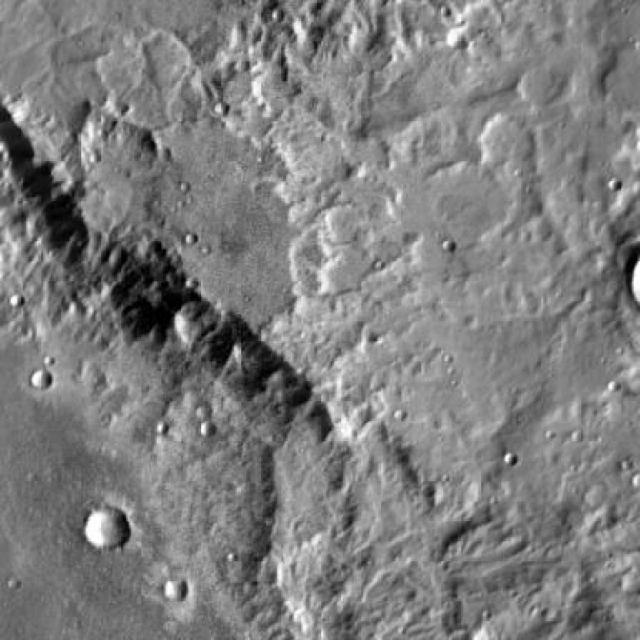crater: (163, 292, 209, 336), (86, 508, 131, 548), (167, 577, 193, 600), (32, 369, 52, 388), (198, 422, 217, 438)
